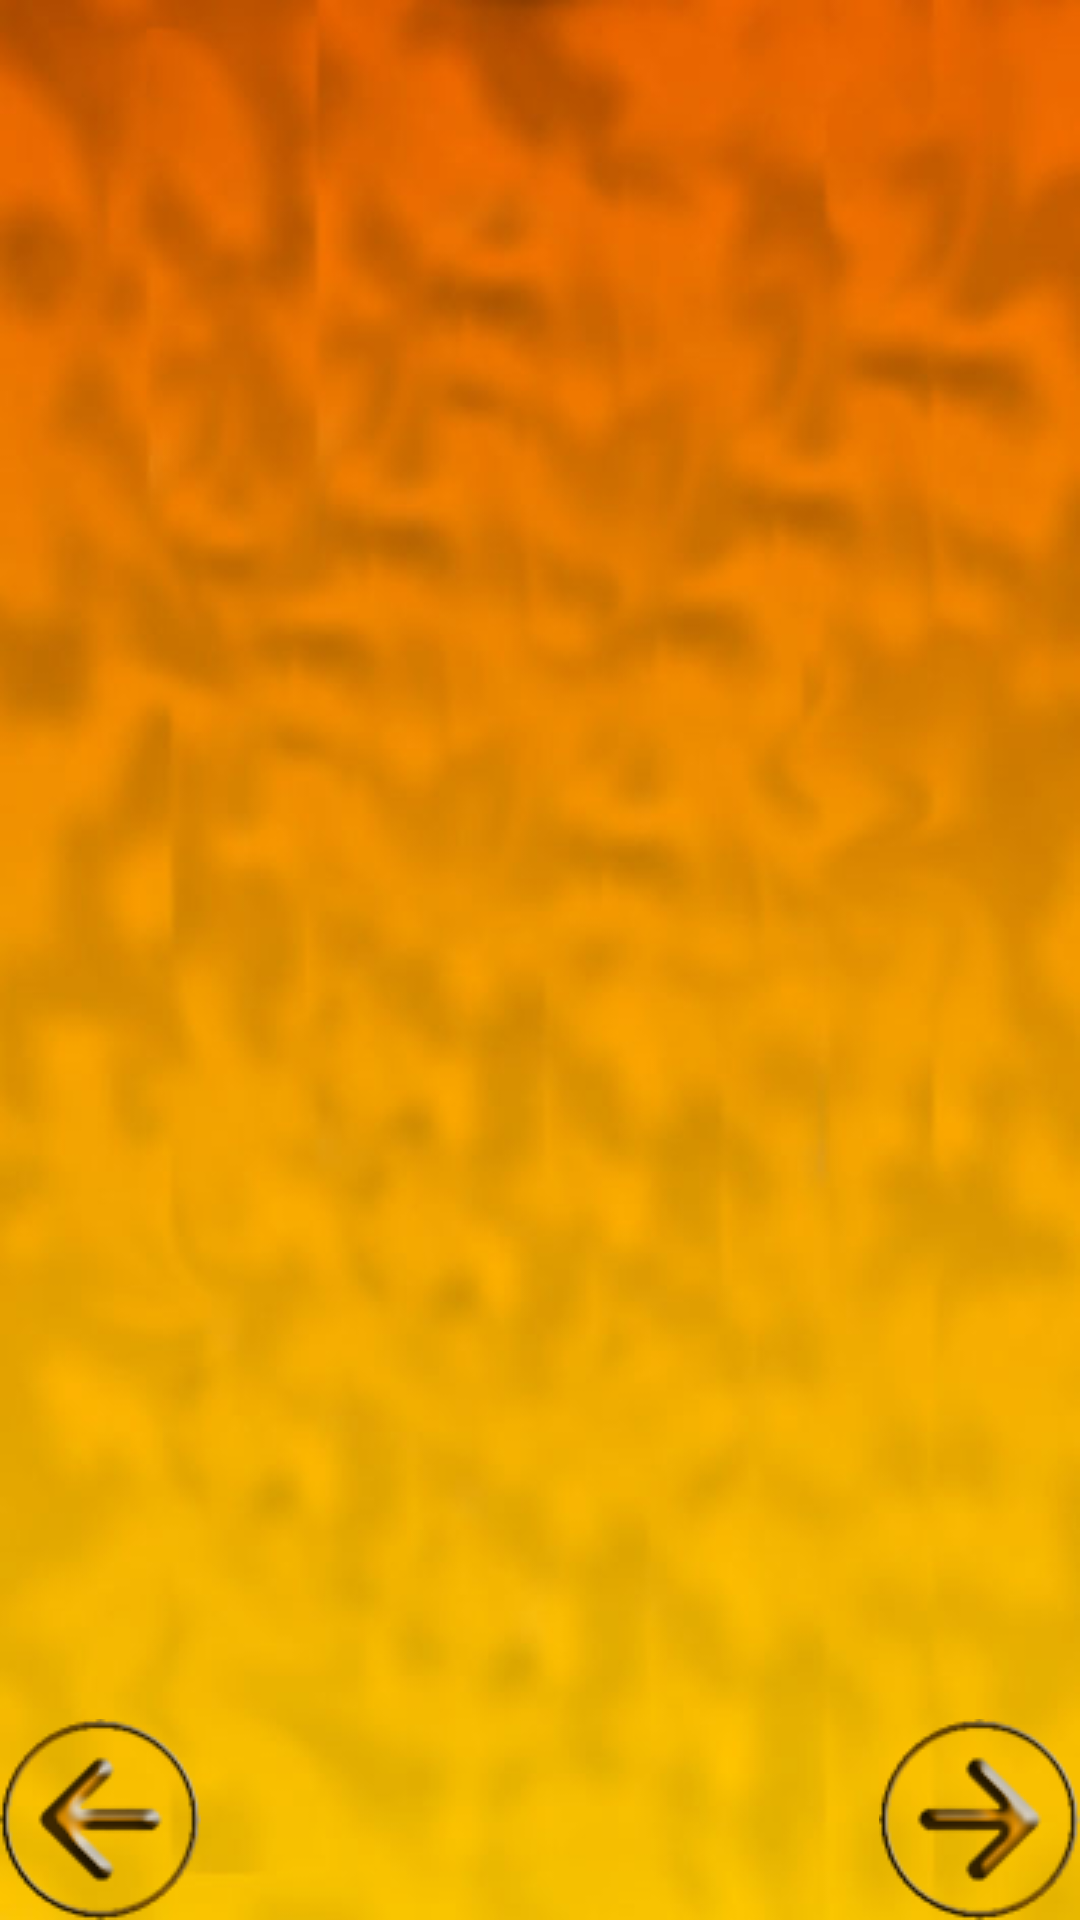

Screen size 1080x1920. Icon name, then its box in pixels as (x1, y1, x2, y2):
goleft: (0, 1719, 201, 1920)
goright: (879, 1719, 1080, 1920)
